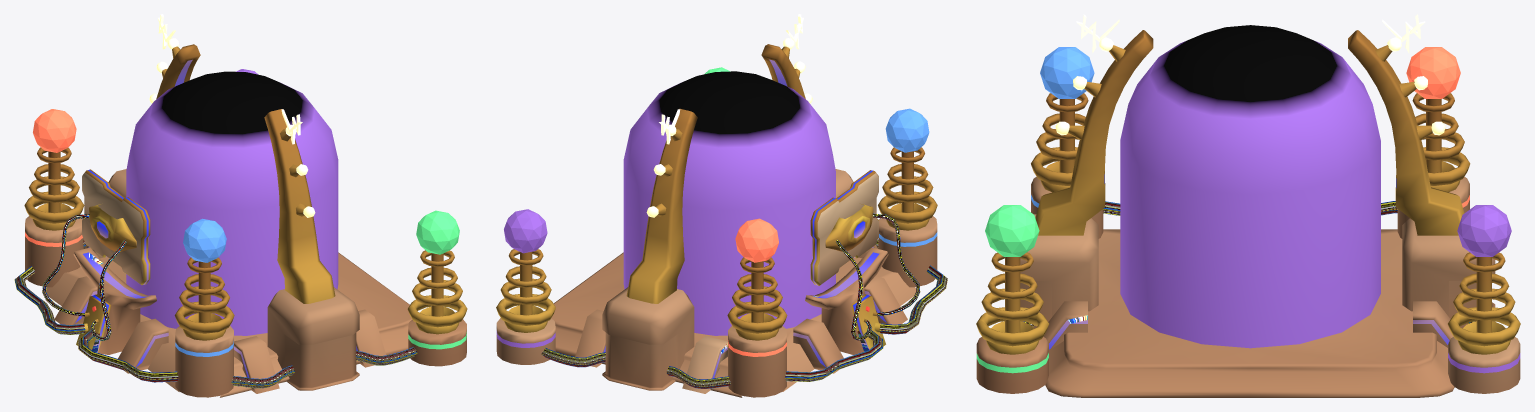
Rendered from cpc_machine.glb.
3 views of the same model, side by side, from view 1: azimuth 30°, elevation 25°; view 2: azimuth 150°, elevation 25°; view 3: azimuth 270°, elevation 25° (orthographic). The views are drawn at different scales.
Visible parts, largest first — view 1: CPC Machine, CPC Machine.001, Icosphere.003, Scifi display, cable.002, Solid, cable, cable.001, Angzaar Logo; view 2: CPC Machine, CPC Machine.001, Icosphere.003, Scifi display, cable.002, Solid, cable.001, cable, Angzaar Logo; view 3: CPC Machine, CPC Machine.001, Icosphere.003, Angzaar Logo.
Part boxes in pixels (x1,y1,x2,y2): CPC Machine: (24, 38, 467, 397); CPC Machine.001: (126, 71, 338, 335); Icosphere.003: (33, 69, 459, 262); Scifi display: (82, 169, 150, 284); cable.002: (14, 240, 417, 388); Solid: (89, 204, 136, 251); cable: (42, 214, 89, 316); cable.001: (90, 240, 126, 340); Angzaar Logo: (157, 14, 302, 144); CPC Machine: (496, 38, 937, 397); CPC Machine.001: (623, 71, 835, 335); Icosphere.003: (504, 67, 929, 262); Scifi display: (810, 170, 878, 285); cable.002: (541, 240, 947, 388); Solid: (825, 203, 873, 251); cable.001: (872, 213, 920, 316); cable: (836, 240, 871, 340); Angzaar Logo: (659, 14, 803, 144); CPC Machine: (976, 30, 1520, 397); CPC Machine.001: (1120, 25, 1380, 348); Icosphere.003: (985, 47, 1511, 256); Angzaar Logo: (1076, 14, 1425, 53).
Size of what is drawn, in the model's own units: 6.46 by 5.11 by 8.29.
Materials: 6 (6 with a texture image).
